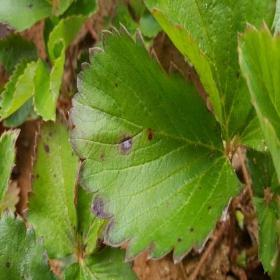Leaf Spot: (68, 22, 246, 265), (142, 0, 277, 142), (22, 107, 82, 259), (0, 205, 62, 279), (74, 183, 112, 258), (0, 127, 22, 207)
